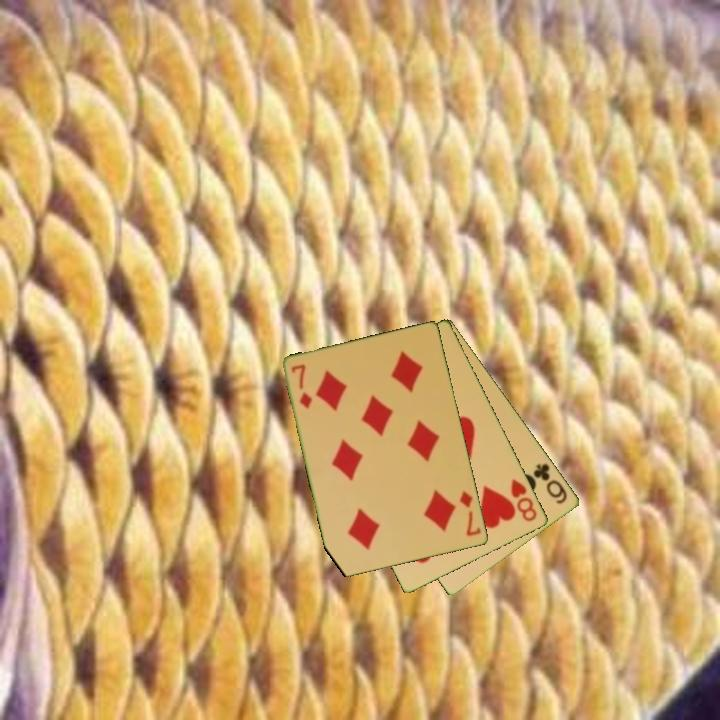6c: (530, 460, 571, 507)
7d: (457, 488, 484, 539), (288, 361, 315, 412)
8h: (507, 475, 540, 525)
